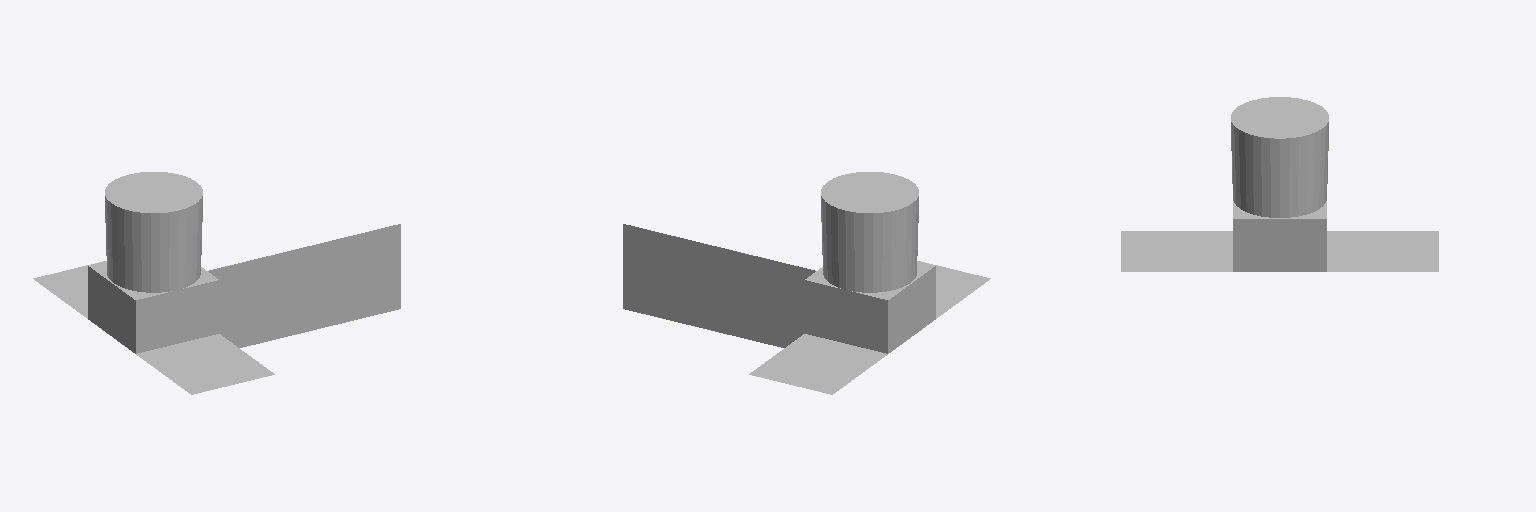
Rendered from straight_combined_LAMP_backward_90.obj.
3 views of the same model, side by side, from view 1: azimuth 30°, elevation 25°; view 2: azimuth 150°, elevation 25°; view 3: azimuth 270°, elevation 25° (orthographic).
Parts seen in each view (by area): view 1: 27U_combined_case_straight_solar.001, 27U_combined_case_straight_solar.000; view 2: 27U_combined_case_straight_solar.001, 27U_combined_case_straight_solar.000; view 3: 27U_combined_case_straight_solar.001.
Boxes of the visible parts, x1,y1,x2,y2 form: 27U_combined_case_straight_solar.001: [33, 172, 274, 394]; 27U_combined_case_straight_solar.000: [208, 224, 400, 347]; 27U_combined_case_straight_solar.001: [749, 172, 990, 394]; 27U_combined_case_straight_solar.000: [623, 224, 815, 347]; 27U_combined_case_straight_solar.001: [1121, 97, 1438, 271].
Bounding box in the file's own units: 1.24 × 0.725 × 1.18.